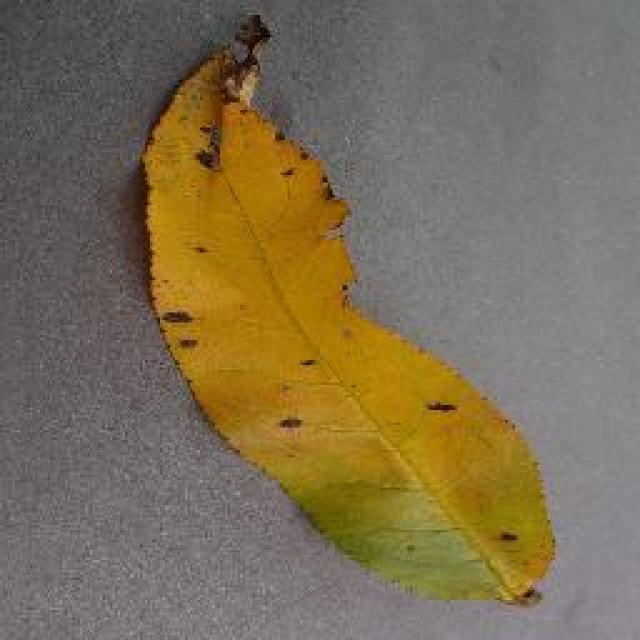Peach_Bacterial_Spot: (156, 20, 466, 468)
